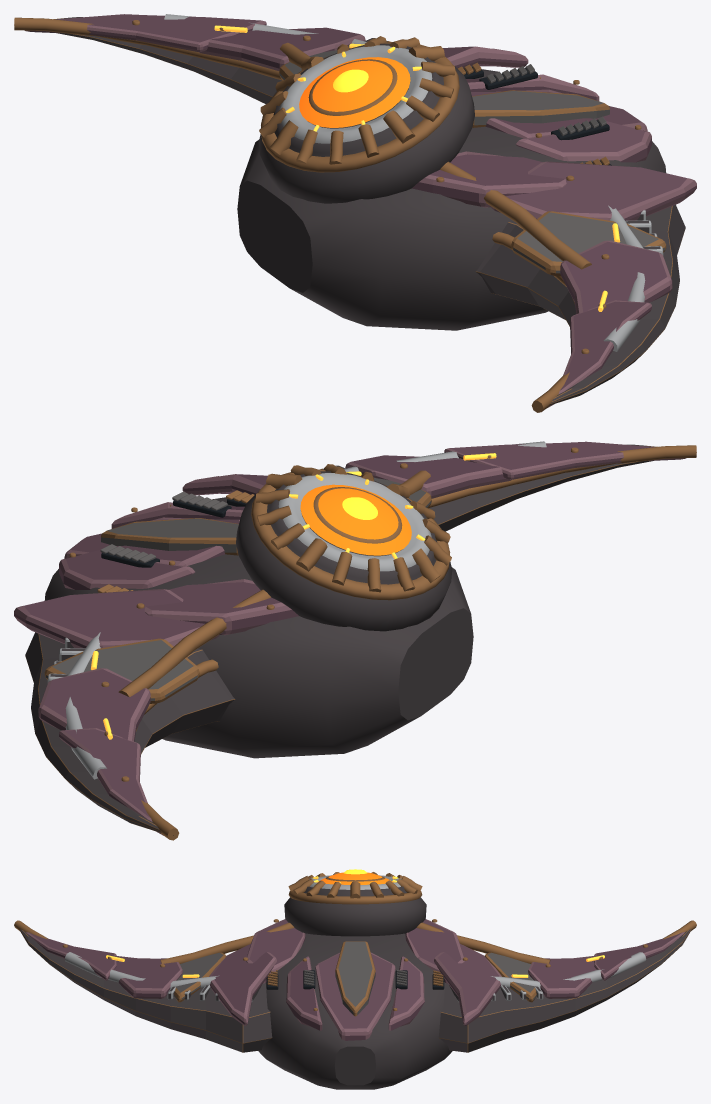
File: StarRing.glb
3 views of the same model, one above another, from view 1: azimuth 30°, elevation 25°; view 2: azimuth 150°, elevation 25°; view 3: azimuth 270°, elevation 25° (orthographic). The views are drawn at different scales.
Visible parts, largest first — view 1: StarRing_Shell, StarRing_Wing_lower_Shell, StarRing_Wing_upper_Shell; view 2: StarRing_Shell, StarRing_Wing_upper_Shell, StarRing_Wing_lower_Shell; view 3: StarRing_Shell, StarRing_Wing_upper_Shell, StarRing_Wing_lower_Shell.
Part boxes in pixels (<box>): StarRing_Shell: <box>237,36,666,330</box>; StarRing_Wing_lower_Shell: <box>412,151,696,412</box>; StarRing_Wing_upper_Shell: <box>14,14,528,124</box>; StarRing_Shell: <box>44,464,473,758</box>; StarRing_Wing_upper_Shell: <box>14,579,298,840</box>; StarRing_Wing_lower_Shell: <box>182,441,696,552</box>; StarRing_Shell: <box>258,869,452,1089</box>; StarRing_Wing_upper_Shell: <box>405,919,696,1052</box>; StarRing_Wing_lower_Shell: <box>14,919,305,1052</box>.
Size of the model in its own units: 3.08 by 1.91 by 7.58.
